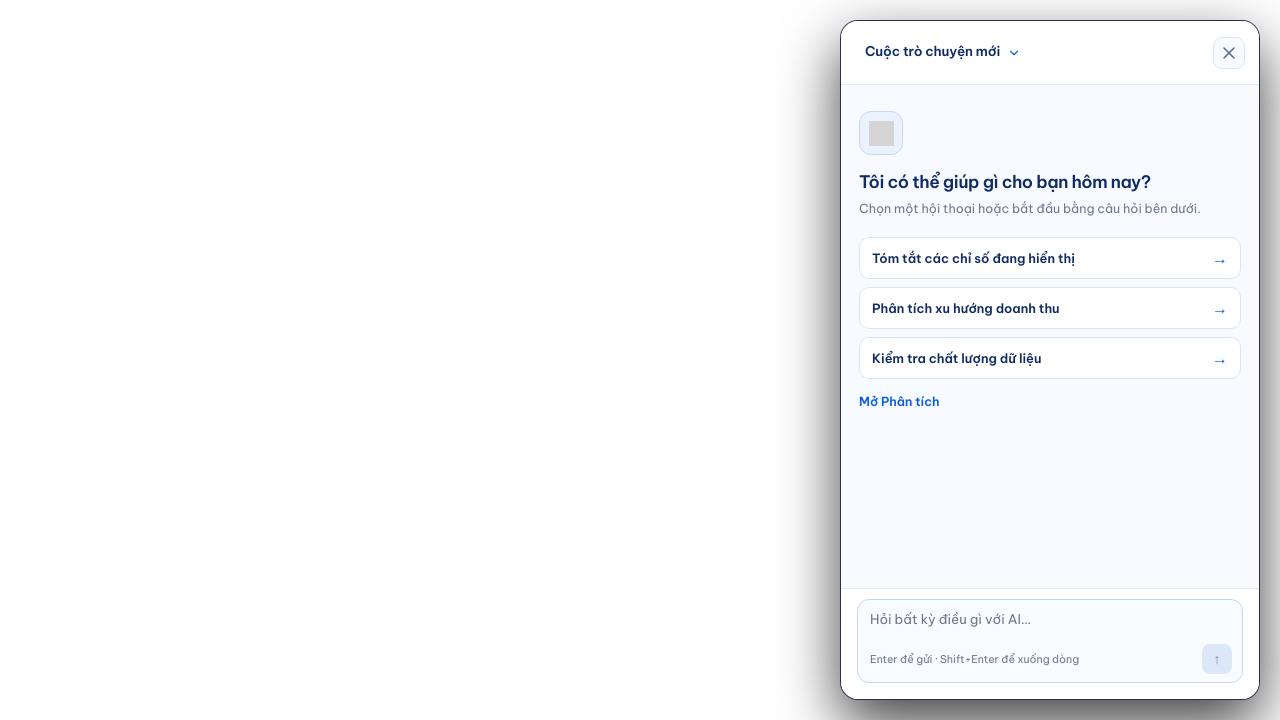
Test: dashboard-local agent panel [DDA-015][DDA-017][DDA-024][WEB-014] › keeps deterministic manual analysis available when the provider is disabled [DDA-017][DDA-044]
Type "Doanh thu theo khu vực" into the text box named "Câu hỏi cho trợ lý biểu đồ" at coordinates (1051, 622), box 870,610 -> 1232,635
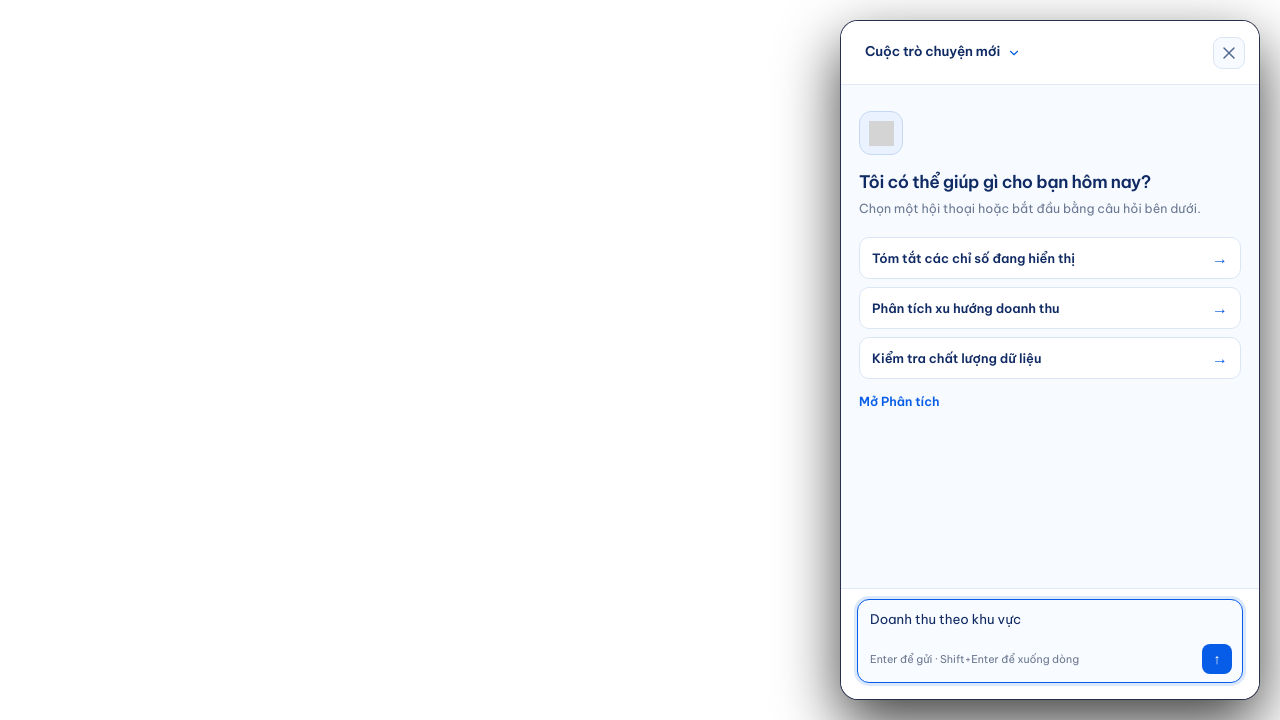
Click the button named "Gửi" at coordinates (1217, 659), box 1202,644 -> 1232,674
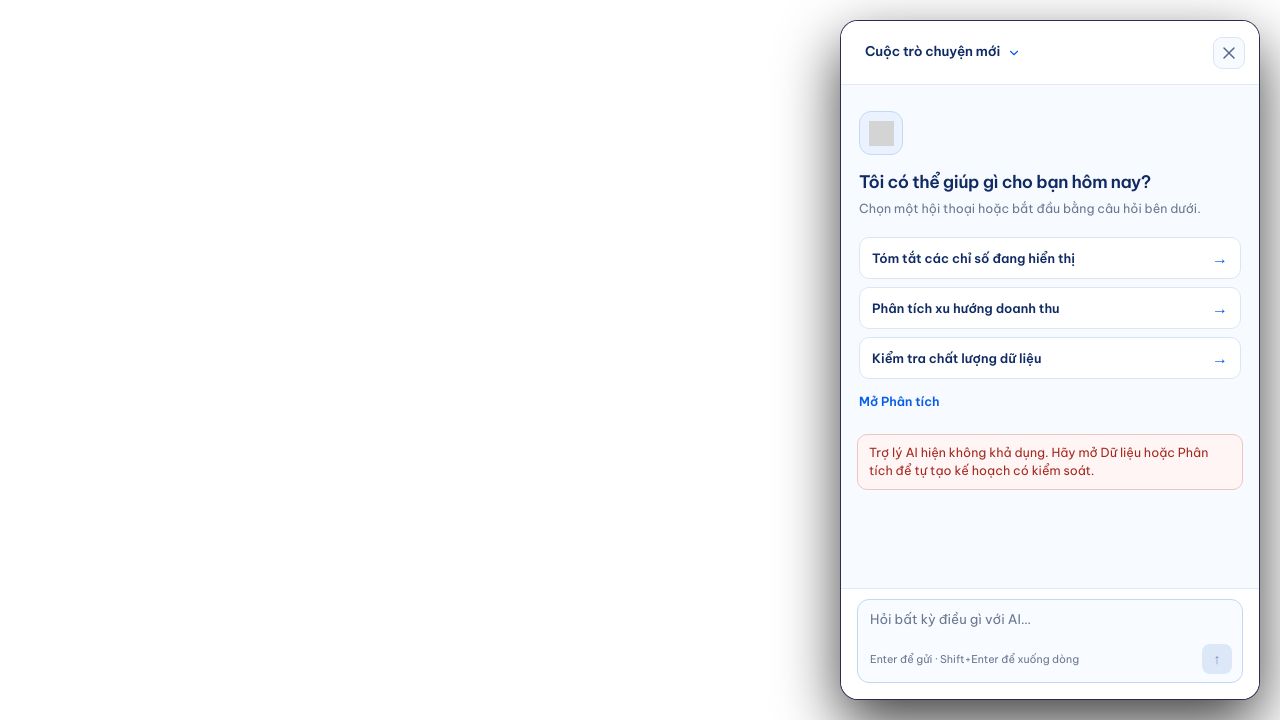
Check: the message shows "Trợ lý AI hiện không khả dụng. Hãy mở Dữ liệu hoặc Phân tích để tự tạo kế hoạch có kiểm soát.", box 869,445 -> 1208,478
